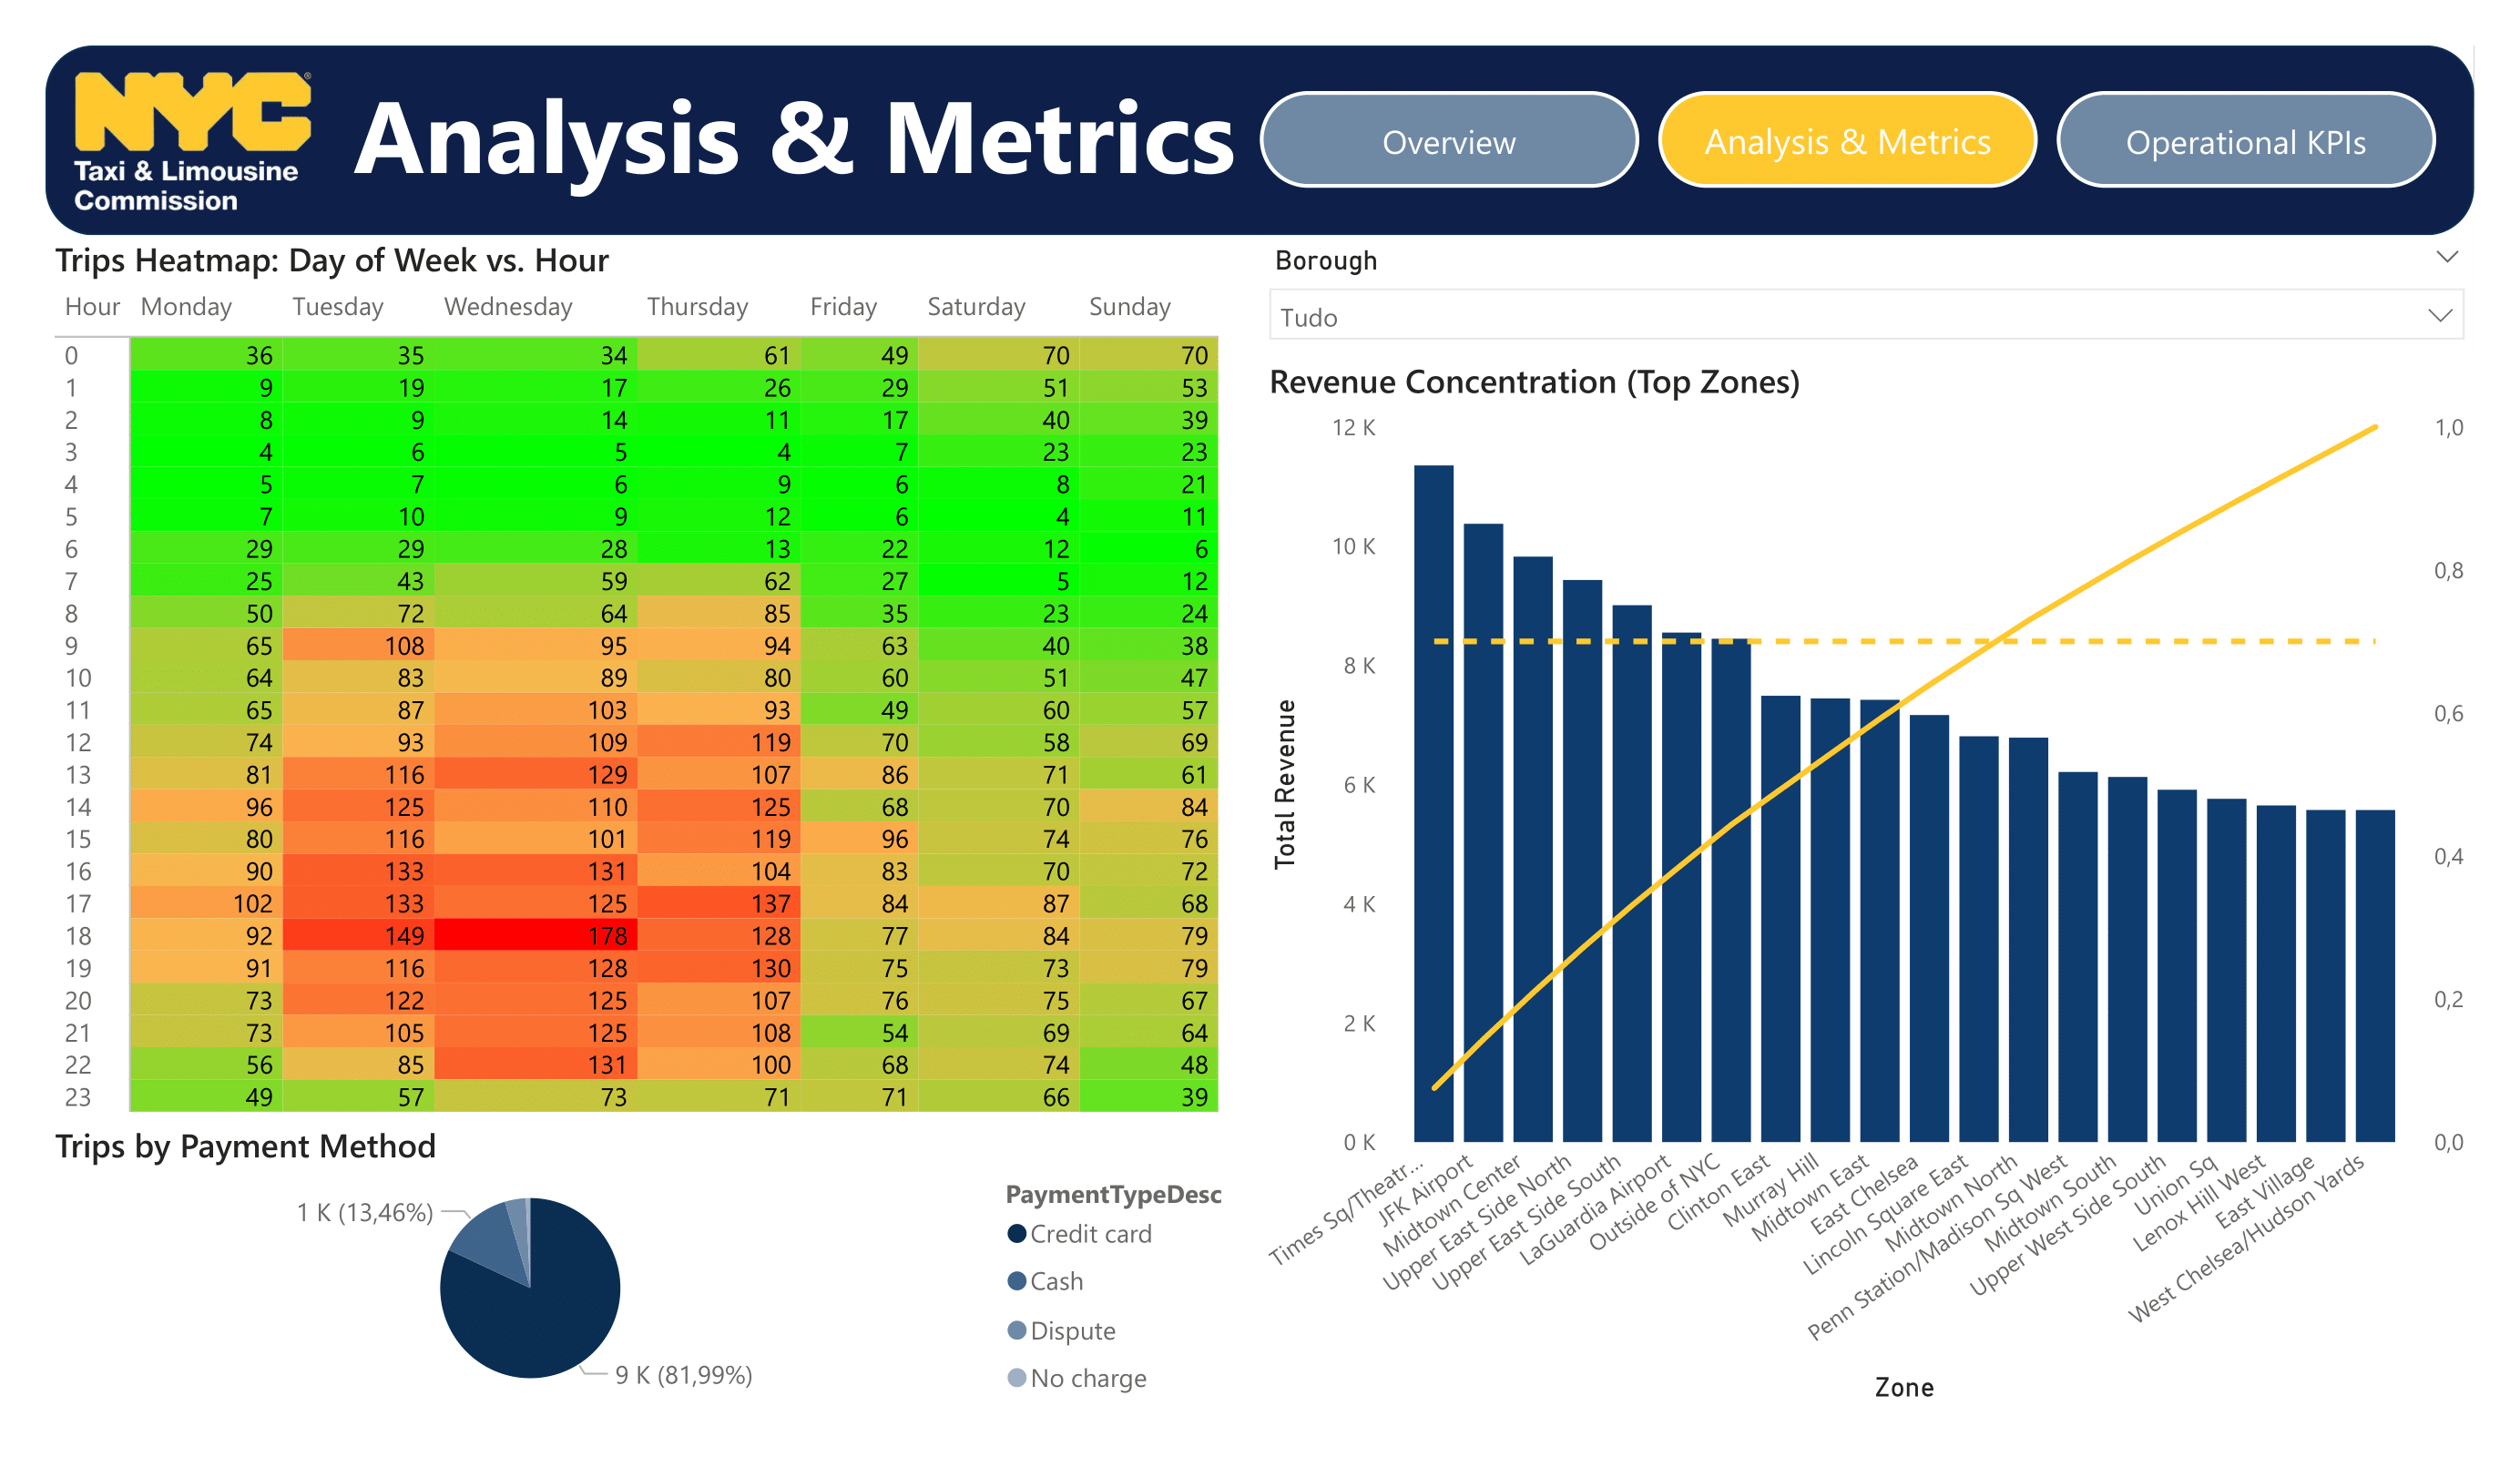

What the dashboard file says about the page in this screenshot:
{"tool":"powerbi","page":{"name":"Analysis & Metrics","canvas":[1280,720],"ordinal":1},"visuals":[{"type":"group","id":"g1","title":"Grupo 1","box":[0,0,1280,100],"z":0},{"type":"shape","box":[0,0,1280,100],"z":0,"group":"g1"},{"type":"image","box":[0,9.1,155.5,81.8],"z":1000,"group":"g1"},{"type":"slicer","fields":{"Values":["dw Dim_Location.Borough"]},"box":[640,100,640,64.4],"z":1000},{"type":"pageNavigator","box":[640,24.2,620.9,50.4],"z":2000,"group":"g1"},{"type":"pivotTable","title":"Trips Heatmap: Day of Week vs. Hour","fields":{"Columns":["dw Dim_Date.DayOfWeekName"],"Rows":["dw Dim_TimeOfDay.Hour"],"Values":["dw Fact_Trip.Total Trips"]},"box":[0,100,640,466.7],"z":2000},{"type":"textbox","box":[162.3,9.1,477.7,70.6],"z":3000,"group":"g1"},{"type":"lineStackedColumnComboChart","title":"Revenue Concentration (Top Zones)","fields":{"Category":["dw Dim_Location.Zone"],"Y":["dw Fact_Trip.Total Revenue"],"Y2":["dw Fact_Trip.CumSharePct","select"]},"box":[640,164.4,640,555.6],"z":3000},{"type":"pieChart","title":"Trips by Payment Method","fields":{"Category":["dw Dim_PaymentType.PaymentTypeDesc"],"Y":["dw Fact_Trip.Total Trips"]},"box":[0,566.7,640,153.3],"z":4000}]}

Visuals, with their boxes on the page's 1280x720 design canvas (x1, y1, x2, y2). These are canvas units, not pixel positions in the 2520x1457 screenshot, which may show the page scaled, cropped or inside an application window:
"Grupo 1" group: 0, 0, 1280, 100
shape: 0, 0, 1280, 100
image: 0, 9, 156, 91
slicer - dw Dim_Location.Borough: 640, 100, 1280, 164
pageNavigator: 640, 24, 1261, 75
"Trips Heatmap: Day of Week vs. Hour" pivotTable: 0, 100, 640, 567
textbox: 162, 9, 640, 80
"Revenue Concentration (Top Zones)" lineStackedColumnComboChart: 640, 164, 1280, 720
"Trips by Payment Method" pieChart: 0, 567, 640, 720
